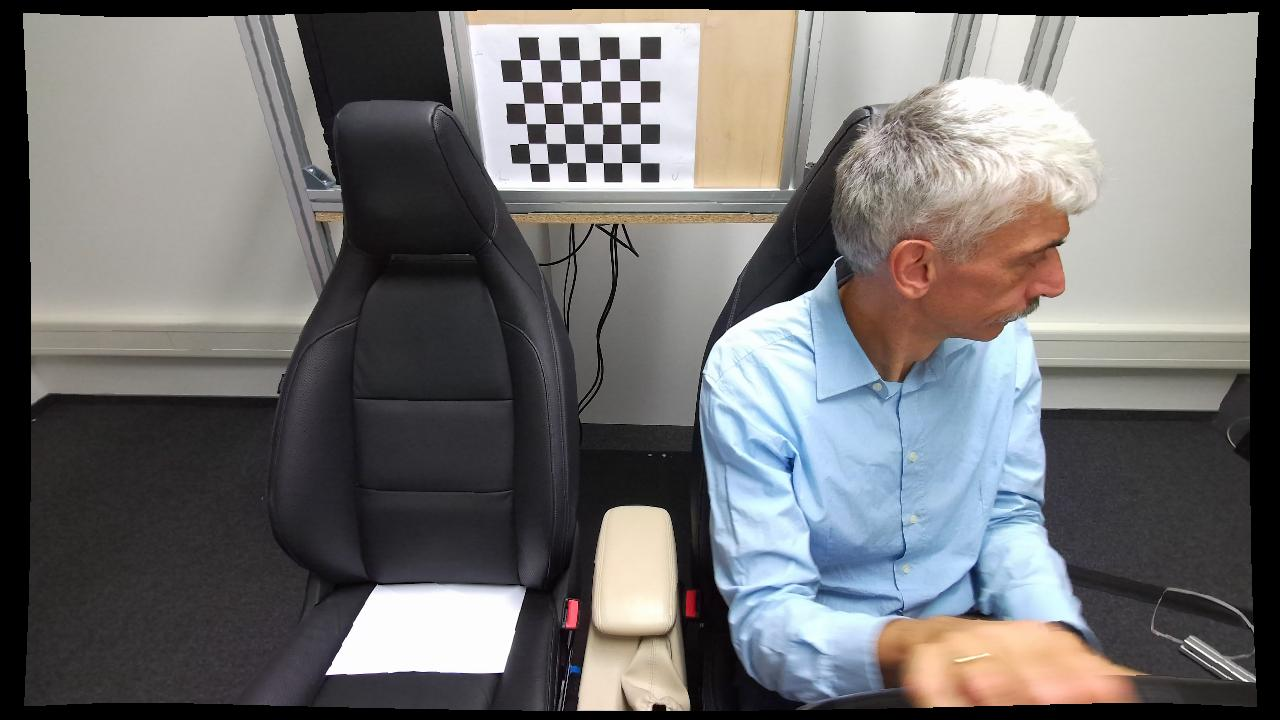Distracted: (700, 72, 1109, 710)
